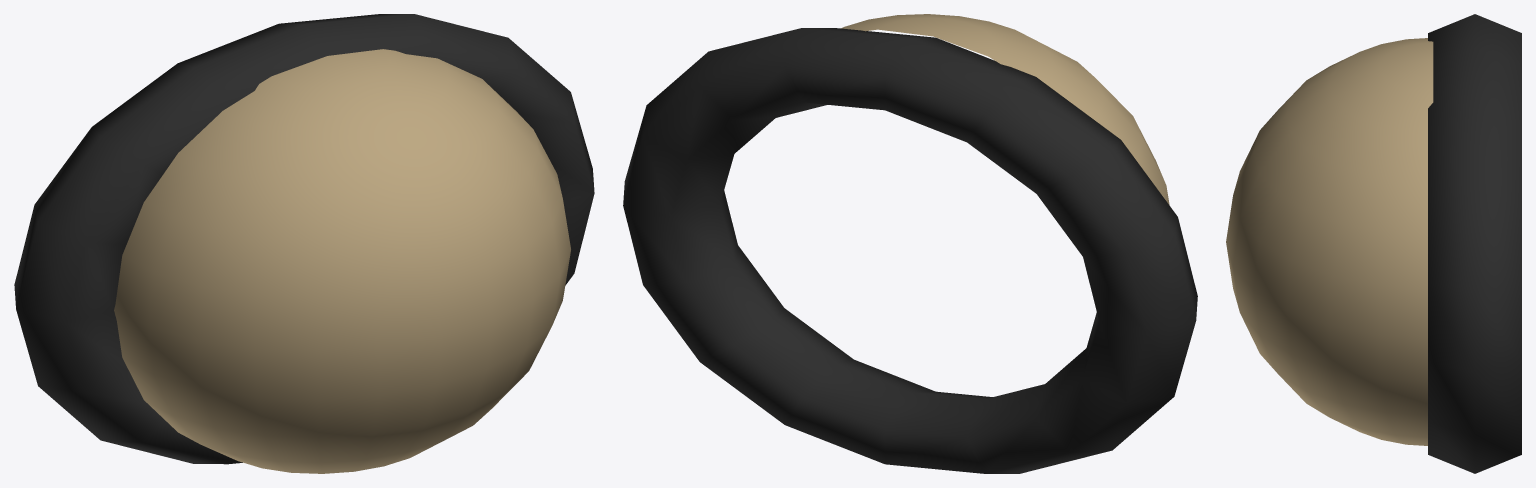
Rendered from slippy.glb.
3 views of the same model, side by side, from view 1: azimuth 30°, elevation 25°; view 2: azimuth 150°, elevation 25°; view 3: azimuth 270°, elevation 25° (orthographic). The views are drawn at different scales.
Parts seen in each view (by area): view 1: Sphere, Torus; view 2: Torus, Sphere; view 3: Sphere, Torus.
Boxes of the visible parts, x1,y1,x2,y2 form: Sphere: (114, 49, 570, 473); Torus: (14, 14, 594, 464); Torus: (623, 28, 1197, 473); Sphere: (841, 14, 1169, 204); Sphere: (1226, 38, 1433, 445); Torus: (1428, 14, 1521, 473).
Size of the model in its own units: 2.24 by 1.59 by 1.09.
